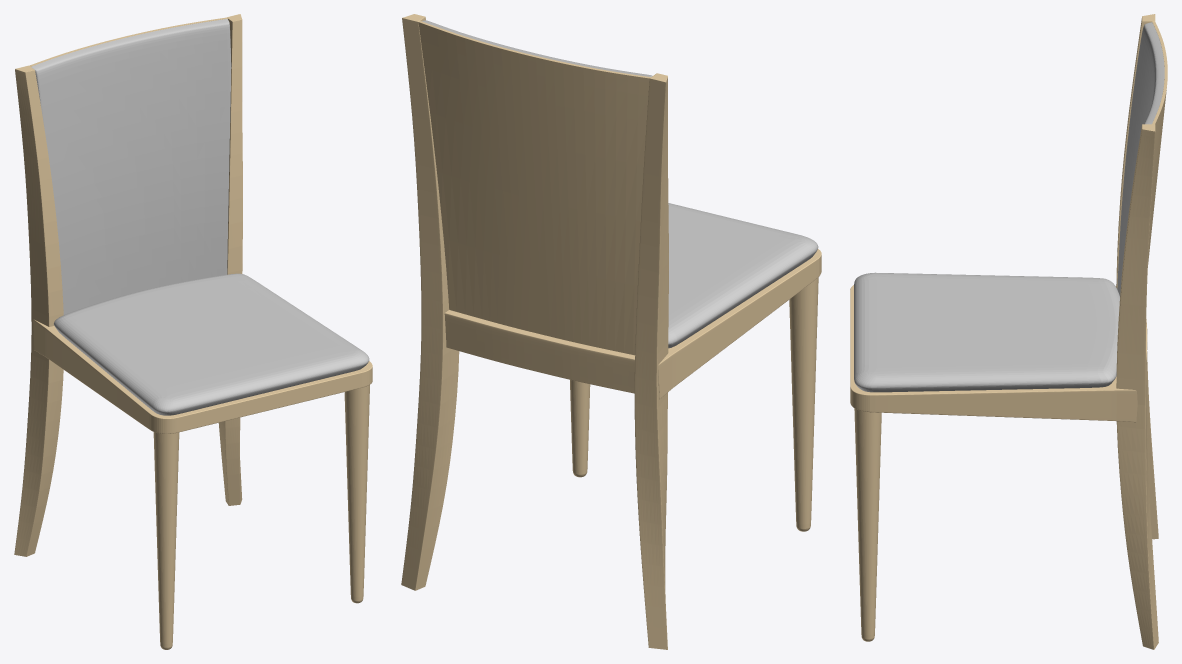
The model's file is chair.obj.
The picture shows the model from 3 angles, left to right: view 1: azimuth 30°, elevation 25°; view 2: azimuth 150°, elevation 25°; view 3: azimuth 270°, elevation 25°; orthographic projection. The views are drawn at different scales.
Visible parts, largest first — view 1: Plane002, Box002, Box001, Object002, Cylinder002, Cylinder001; view 2: Plane001, Box001, Object002, Box002, Cylinder002, Cylinder001, Plane002; view 3: Box002, Box001, Object002, Cylinder001, Plane002, Plane001.
Boxes of the visible parts, <box> form: Plane002: <box>31,19,231,314</box>; Box002: <box>54,273,369,415</box>; Box001: <box>14,14,242,556</box>; Object002: <box>33,319,372,433</box>; Cylinder002: <box>153,432,179,649</box>; Cylinder001: <box>344,385,369,603</box>; Plane001: <box>418,21,650,355</box>; Box001: <box>401,14,668,649</box>; Object002: <box>444,249,821,399</box>; Box002: <box>668,203,818,348</box>; Cylinder002: <box>789,277,818,531</box>; Cylinder001: <box>570,380,590,477</box>; Plane002: <box>422,20,652,76</box>; Box002: <box>854,272,1119,392</box>; Box001: <box>1116,14,1158,649</box>; Object002: <box>850,285,1147,422</box>; Cylinder001: <box>854,408,881,641</box>; Plane002: <box>1117,22,1164,295</box>; Plane001: <box>1147,21,1167,267</box>.
Size of the model in its own units: 454 by 924 by 513.
